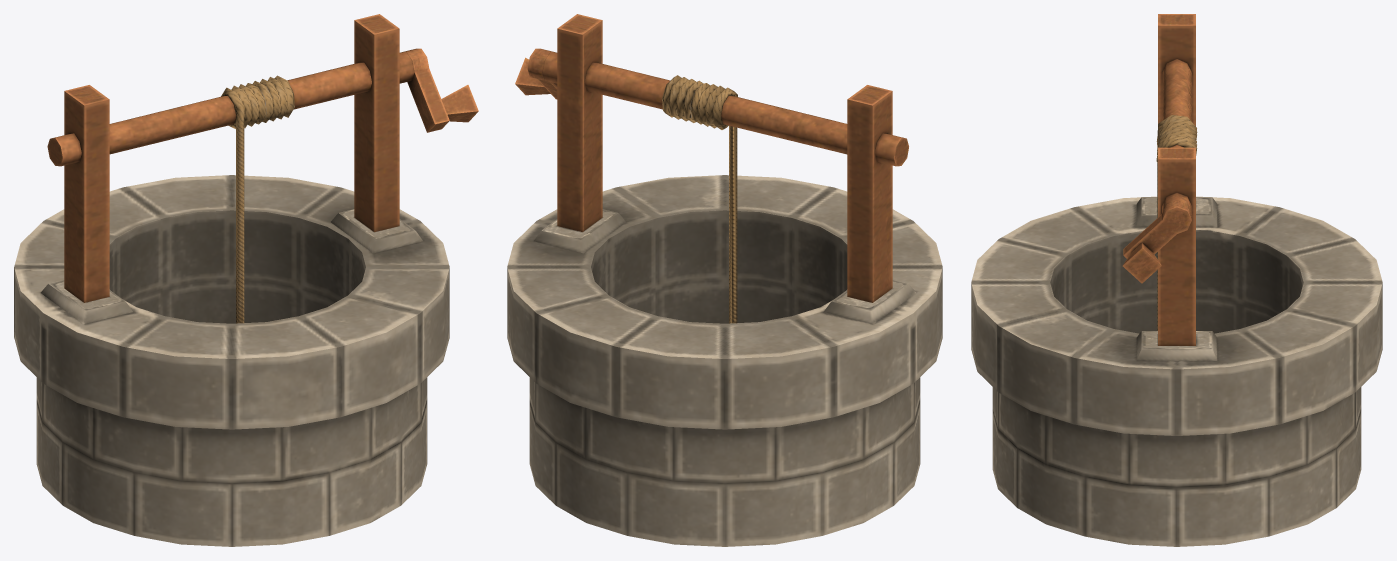
Rendered from sb_obj_outdoor047_well.fbx.
3 views of the same model, side by side, from view 1: azimuth 30°, elevation 25°; view 2: azimuth 150°, elevation 25°; view 3: azimuth 270°, elevation 25° (orthographic). The views are drawn at different scales.
Visible parts, largest first — view 1: sb_obj_outdoor047_well; view 2: sb_obj_outdoor047_well; view 3: sb_obj_outdoor047_well.
Boxes of the visible parts, bbox=[...] form: sb_obj_outdoor047_well: bbox=[14, 14, 478, 546]; sb_obj_outdoor047_well: bbox=[507, 14, 942, 546]; sb_obj_outdoor047_well: bbox=[971, 14, 1382, 546].
Size of the model in its own units: 1.08 by 1.03 by 1.
Materials: 1 (1 with a texture image).
